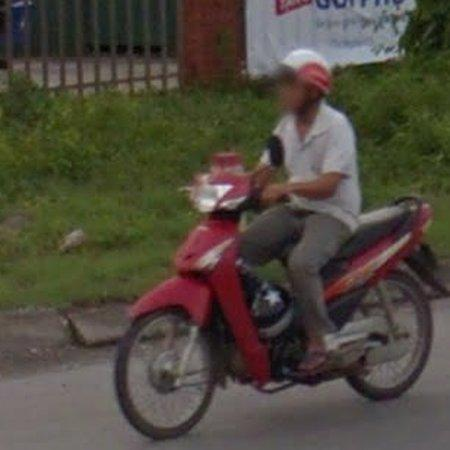motorcycles: (115, 153, 303, 440), (318, 198, 450, 401)
